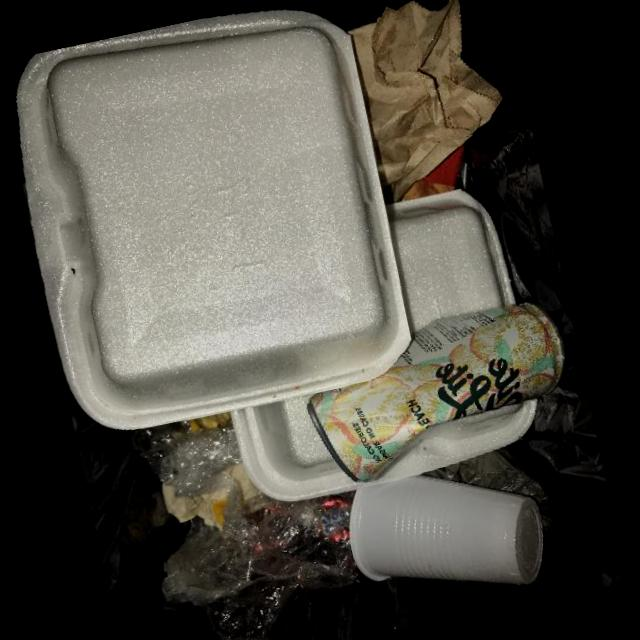giay: (348, 0, 502, 201)
nhom: (307, 300, 564, 482)
tui_ni_long: (130, 415, 359, 640)
xop: (14, 5, 413, 428), (228, 390, 537, 500), (387, 187, 514, 332)
